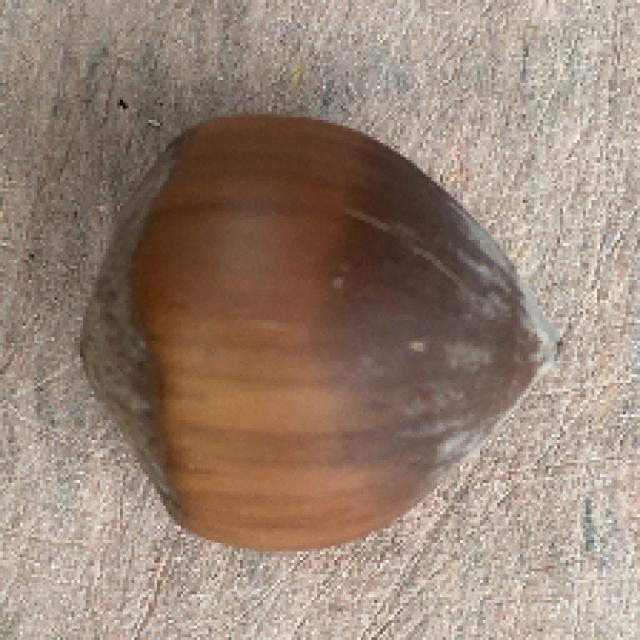damagedHazelnut: (86, 115, 547, 548)
